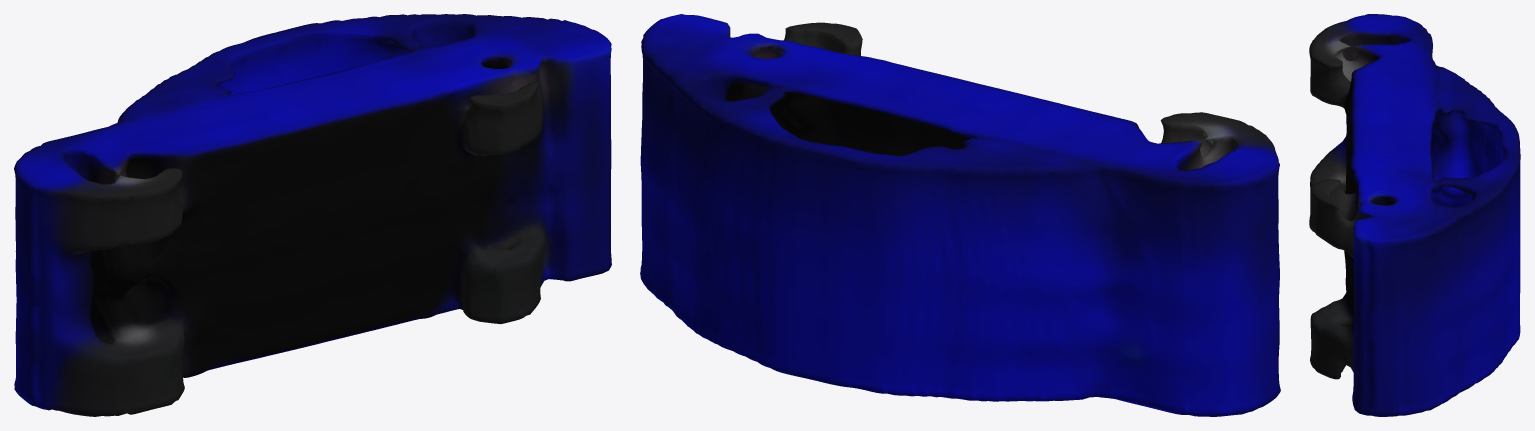
3 views of the same model, side by side, from view 1: azimuth 30°, elevation 25°; view 2: azimuth 150°, elevation 25°; view 3: azimuth 270°, elevation 25° (orthographic). The views are drawn at different scales.
Visible parts, largest first — view 1: plyFile; view 2: plyFile; view 3: plyFile.
Part boxes in pixels (box(x1,y1,x2,y2)): plyFile: box(14, 14, 611, 416); plyFile: box(640, 14, 1280, 416); plyFile: box(1309, 14, 1520, 416).
Size of the model in its own units: 198 by 72.8 by 77.82.
